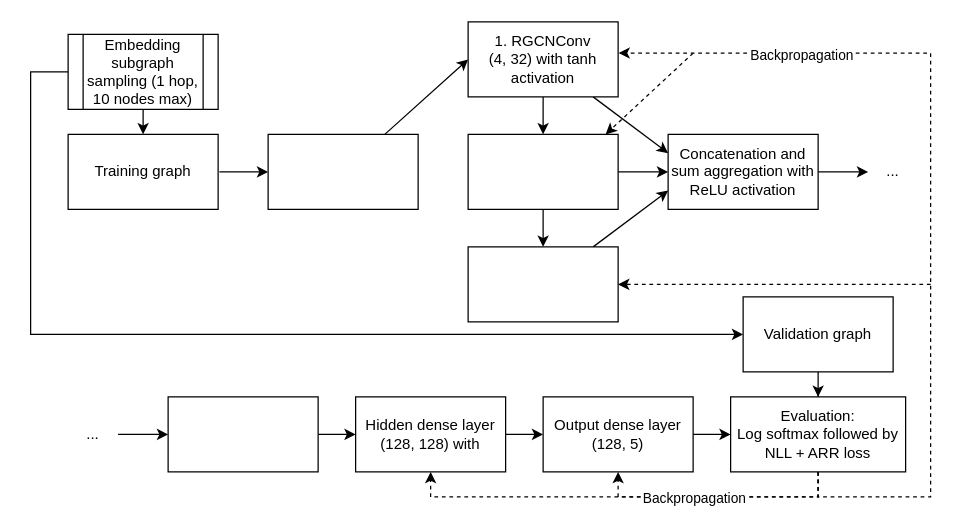
Image size: 963x529. Some labels were removed from this diagram. Each missing label, with the centre of its shape:
2. RGCNConv (32, 32) with tanh activation: (542,171)
3. RGCNConv (32, 32) with tanh activation: (542,284)
Adjacency Dropout p 1 = 0.3: (342,171)
Embedding Dropout p 2 = 0.5: (242,434)
